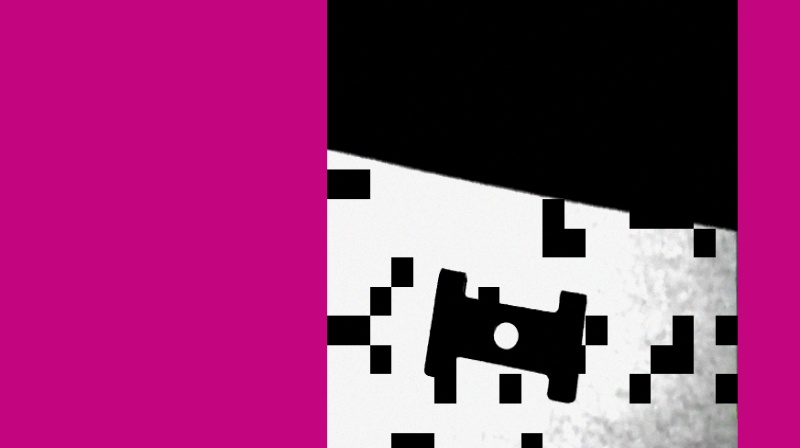O002: (420, 265, 593, 404)
